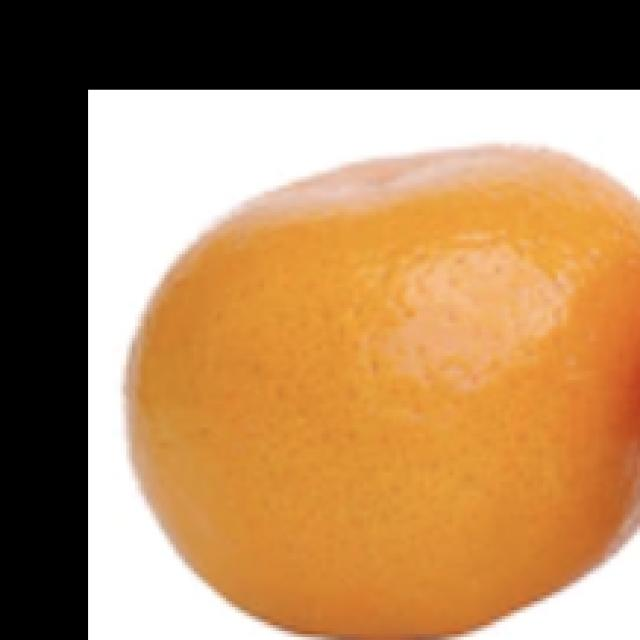orange: (120, 138, 640, 637)
